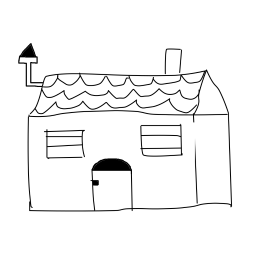chimney: (17, 36, 42, 88), (160, 38, 187, 81)
closed_window: (39, 124, 88, 164), (138, 123, 187, 159)
door: (83, 157, 139, 217)
roof: (17, 69, 234, 116)
wall: (20, 112, 204, 218)
